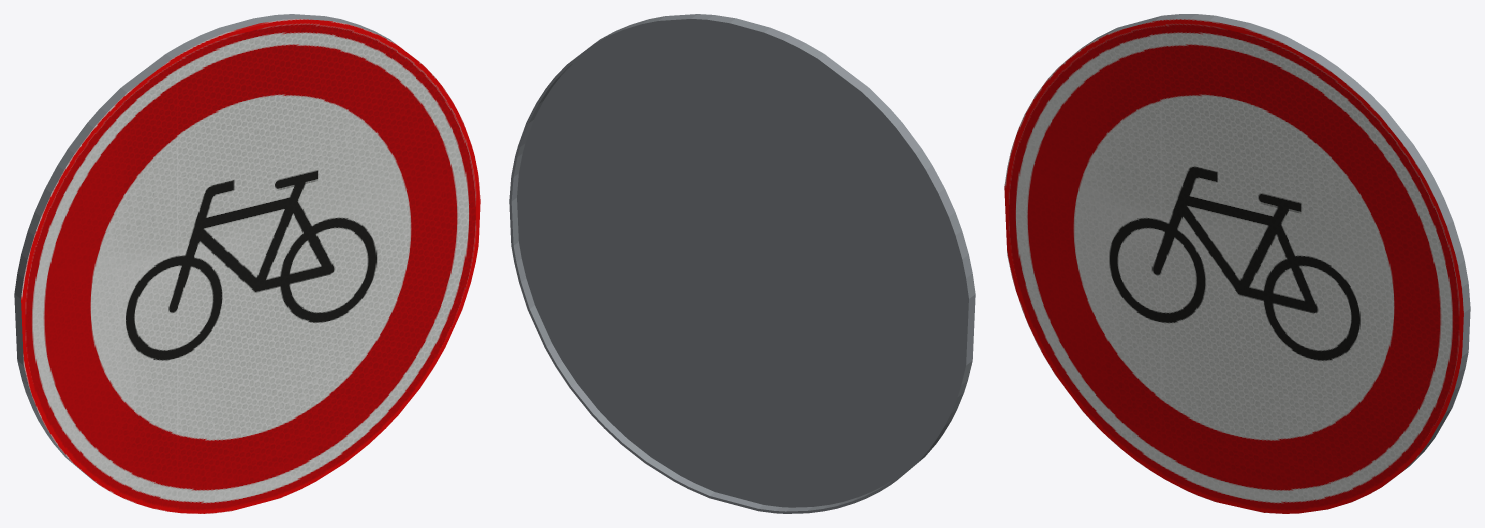
3 views of the same model, side by side, from view 1: azimuth 30°, elevation 25°; view 2: azimuth 150°, elevation 25°; view 3: azimuth 330°, elevation 25° (orthographic).
Visible parts, largest first — view 1: cat_198fab8f6a9a0475; view 2: cat_198fab8f6a9a0475; view 3: cat_198fab8f6a9a0475.
Part boxes in pixels (x1,y1,x2,y2): cat_198fab8f6a9a0475: [14, 14, 480, 513]; cat_198fab8f6a9a0475: [509, 14, 975, 513]; cat_198fab8f6a9a0475: [1004, 14, 1470, 513].
Bounding box in the file's own units: 0.6 × 0.015 × 0.6.
Materials: 2 (1 with a texture image).
